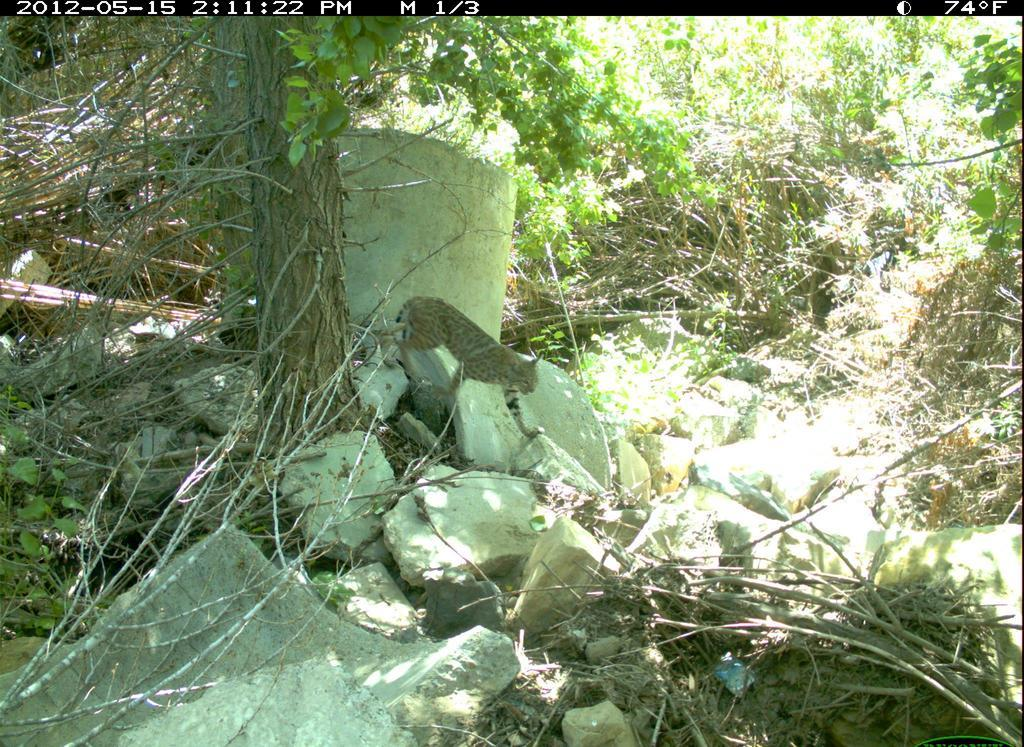bobcat: (370, 292, 555, 447)
